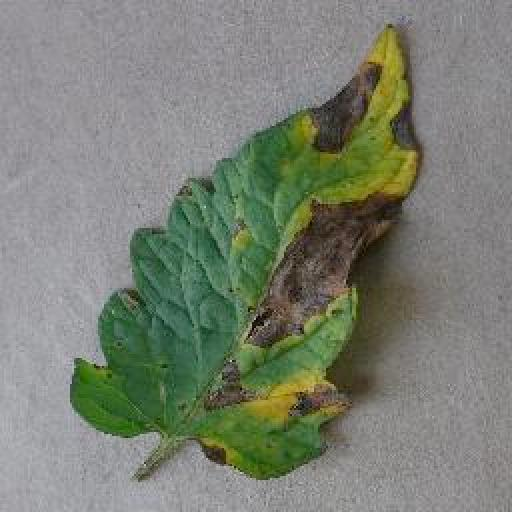Early Blight: (74, 19, 426, 485)
